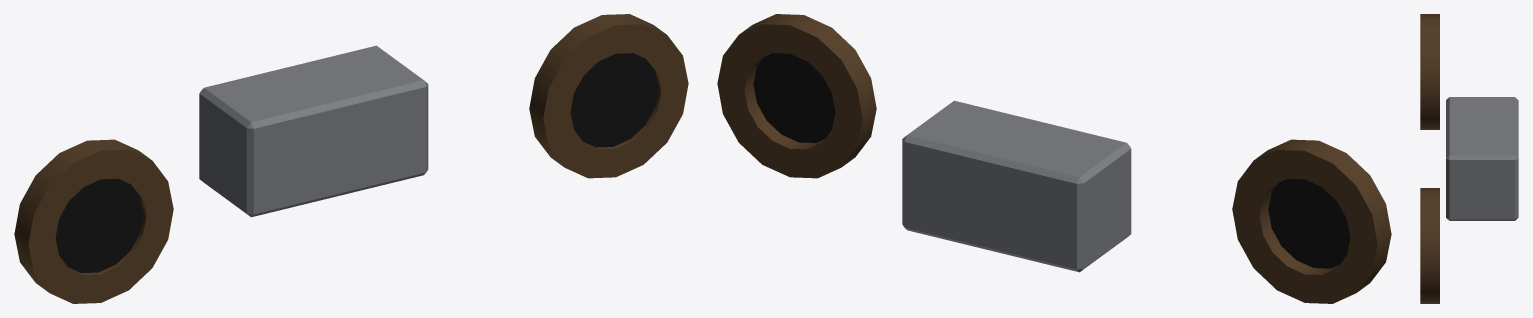
The model's file is ec2_motor.obj.
The picture shows the model from 3 angles, left to right: view 1: azimuth 30°, elevation 25°; view 2: azimuth 150°, elevation 25°; view 3: azimuth 270°, elevation 25°; orthographic projection. The views are drawn at different scales.
Visible parts, largest first — view 1: ec2_motor; view 2: ec2_motor; view 3: ec2_motor.
Boxes of the visible parts, x1,y1,x2,y2 form: ec2_motor: [14, 14, 688, 303]; ec2_motor: [717, 14, 1391, 303]; ec2_motor: [1420, 14, 1518, 303].
Size of the model in its own units: 4.36 by 0.96 by 0.81.
